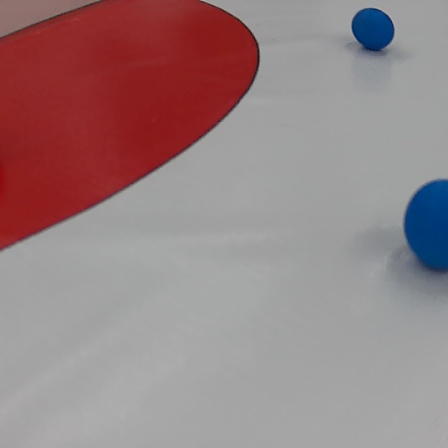blue: (401, 177, 447, 272), (350, 7, 396, 51)
